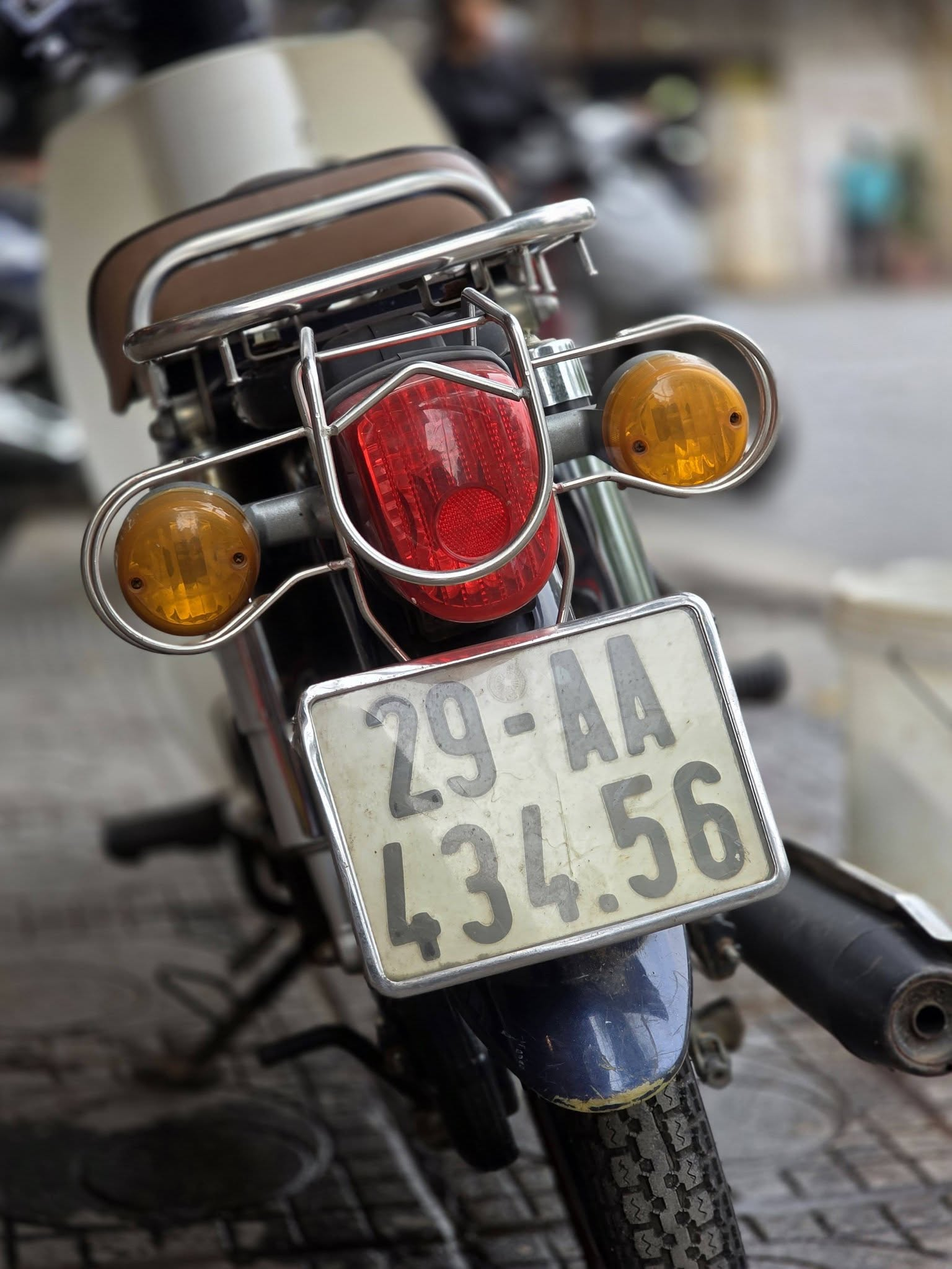bien_so: (281, 584, 798, 1006)
